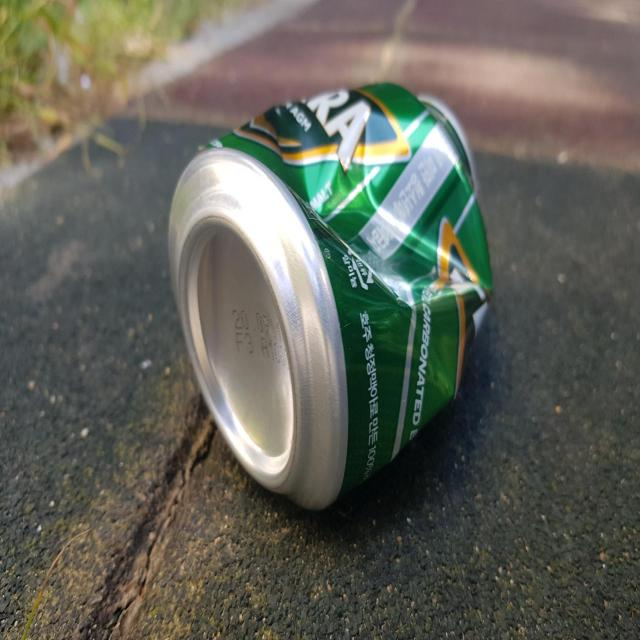can: (168, 82, 493, 509)
